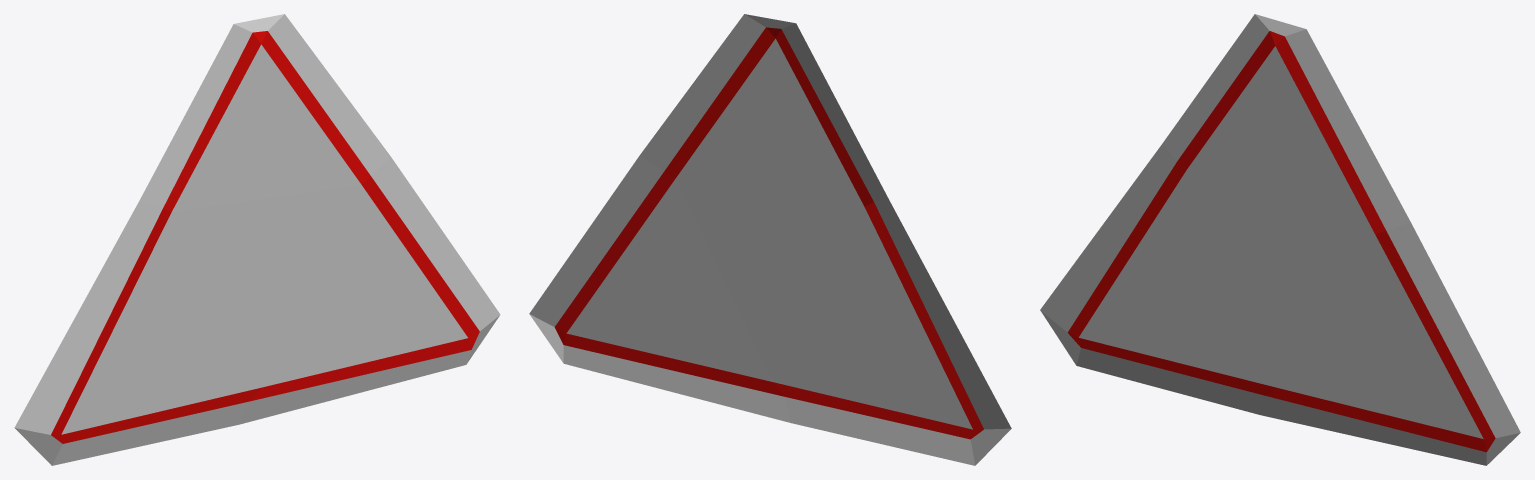
Rendered from ui_order_warning.glb.
3 views of the same model, side by side, from view 1: azimuth 30°, elevation 25°; view 2: azimuth 150°, elevation 25°; view 3: azimuth 330°, elevation 25° (orthographic).
Visible parts, largest first — view 1: Cylinder; view 2: Cylinder; view 3: Cylinder.
Boxes of the visible parts, left/top/right/bottom form: Cylinder: left=14, top=14, right=500, bottom=465; Cylinder: left=529, top=14, right=1011, bottom=465; Cylinder: left=1040, top=14, right=1520, bottom=465.
Bounding box in the file's own units: 1.97 × 1.56 × 0.0371.
